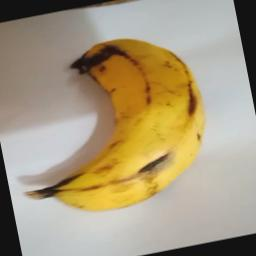Banana Unripe: (0, 22, 222, 227)
